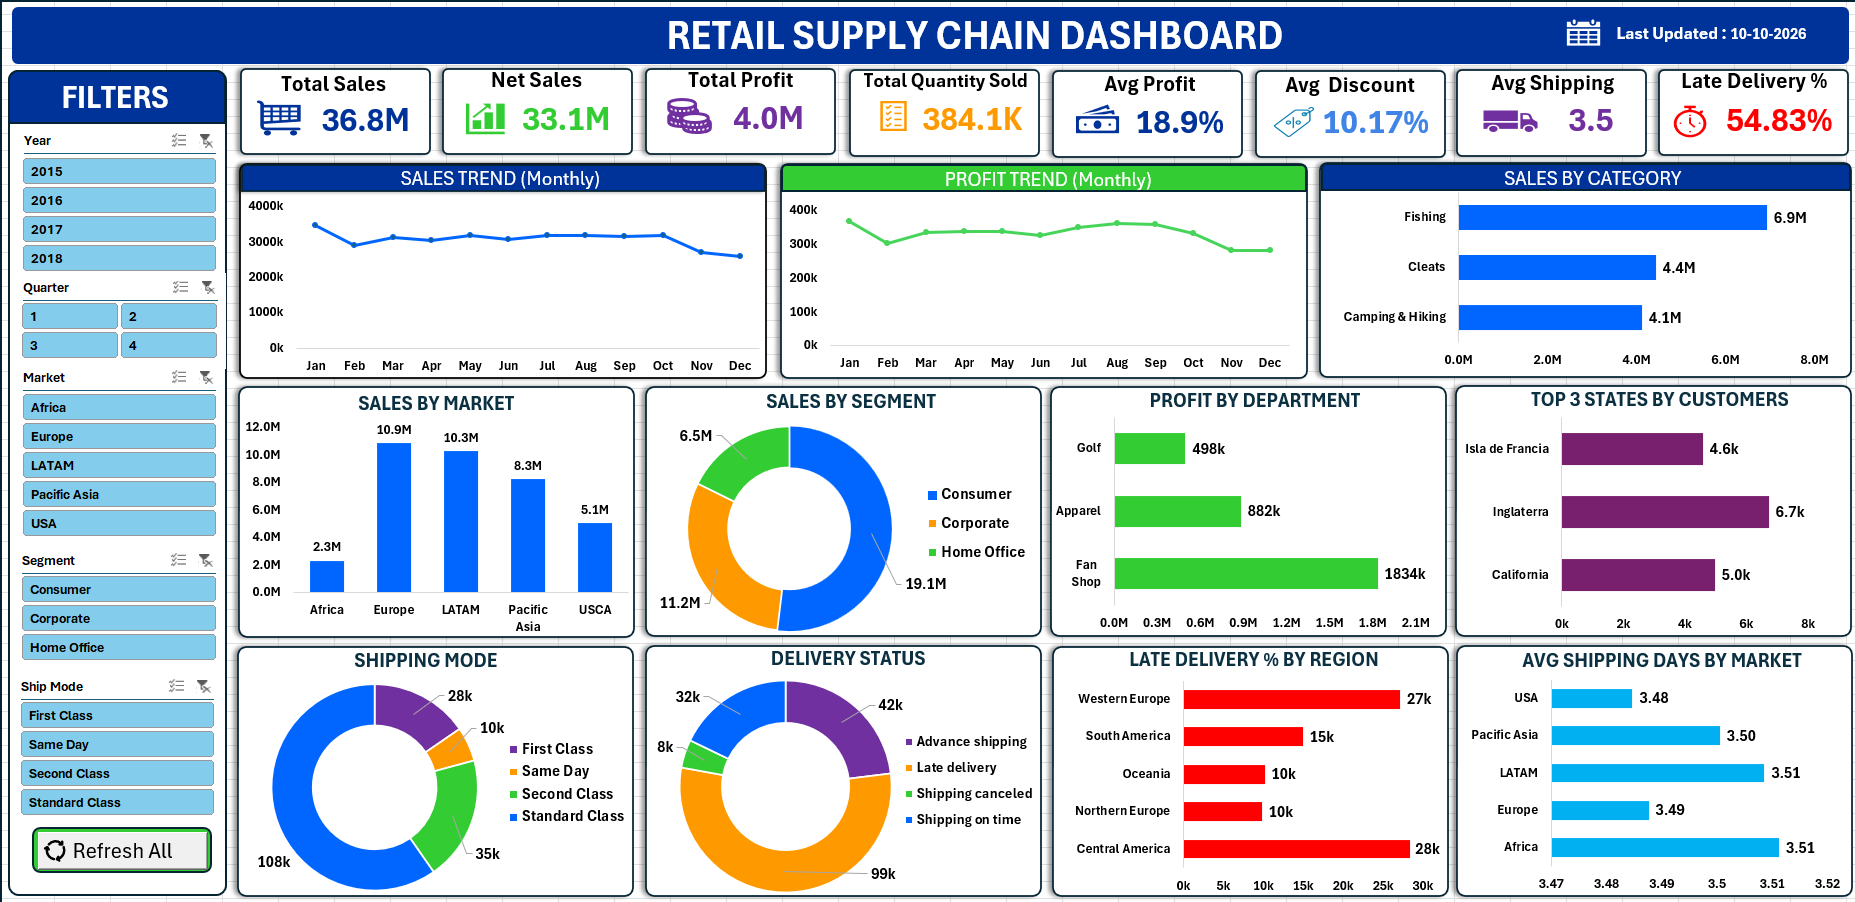

The page's visual inventory and layout, read from the dashboard file:
{"tool":"powerbi","page":{"name":"Page 1","canvas":[2800,1500],"ordinal":0},"visuals":[{"type":"cardVisual","fields":{"Data":["Sum(gold fact_order_items.sales)"]},"box":[4.6,356.1,455,140],"z":0},{"type":"cardVisual","fields":{"Data":["Count(gold fact_order_items.order_id)"]},"box":[472.6,356.1,455,140],"z":1000},{"type":"cardVisual","fields":{"Data":["Sum(gold fact_order_items.profit)"]},"box":[940.6,356.1,455,140],"z":2000},{"type":"cardVisual","fields":{"Data":["Avg(gold fact_order_items.profit_margin)"]},"box":[1408.6,356.1,455,140],"z":3000},{"type":"cardVisual","fields":{"Data":["Count(gold fact_order_items.customer_id)"]},"box":[2344.6,356.1,455,140],"z":4000},{"type":"cardVisual","fields":{"Data":["gold fact_order_items.late_delivery_risk_%"]},"box":[1876.6,356.1,455,140],"z":5000},{"type":"columnChart","title":"Sales by Market","fields":{"Y":["Sum(gold fact_order_items.sales)"],"Category":["gold fact_order_items.market"]},"box":[1407.5,506.9,666.4,500],"z":6000},{"type":"donutChart","title":"Sales by Customer Segment","fields":{"Y":["Sum(gold fact_order_items.sales)"],"Category":["gold fact_order_items.segment"]},"box":[1870,1014.4,925,476],"z":7000},{"type":"barChart","title":"Top 3 Departments by Profit","fields":{"Y":["Sum(gold fact_order_items.profit)"],"Category":["gold fact_order_items.department_name"]},"box":[2088.1,506.9,707,500],"z":8000},{"type":"donutChart","title":"Orders by Shipping Mode","fields":{"Y":["Count(gold fact_order_items.order_id)"],"Category":["gold fact_order_items.shipping_mode"]},"box":[3.3,1014.4,924,476],"z":9000},{"type":"slicer","fields":{"Values":["gold dim_date.year_number"]},"box":[0,244.3,545,115],"z":10000},{"type":"slicer","fields":{"Values":["gold dim_date.quarter_number"]},"box":[562.9,244.3,545,115],"z":11000},{"type":"slicer","fields":{"Values":["gold dim_order_locations.market"]},"box":[1688.7,244.3,545,115],"z":12000},{"type":"slicer","fields":{"Values":["gold fact_order_items.shipping_mode"]},"box":[2251.6,244.3,545,115],"z":13000},{"type":"lineStackedColumnComboChart","title":"Sales & Profit Trend","fields":{"Y":["Sum(gold fact_order_items.sales)"],"Category":["gold fact_order_items.calendar_date.Variation.Date Hierarchy.Month"],"Y2":["Sum(gold fact_order_items.profit)"]},"box":[3.3,506.7,1393.4,500],"z":14000},{"type":"slicer","fields":{"Values":["gold fact_order_items.region"]},"box":[1125.8,244.3,545,115],"z":15000},{"type":"tableEx","title":"Category Performance","fields":{"Values":["gold fact_order_items.category_name","Sum(gold fact_order_items.sales)","Sum(gold fact_order_items.profit)","Avg(gold fact_order_items.profit_margin)"]},"box":[937.8,1014.4,920,476],"z":16000},{"type":"textbox","box":[272.6,20.2,783.5,105],"z":17000},{"type":"textbox","box":[280.7,125.2,803.7,56.5],"z":18000},{"type":"image","box":[0,0,273.8,190.6],"z":19000}]}

Visuals, with their boxes on the page's 2800x1500 design canvas (x1, y1, x2, y2). These are canvas units, not pixel positions in the 1855x902 screenshot, which may show the page scaled, cropped or inside an application window:
cardVisual - Sum(gold fact_order_items.sales): bbox=[5, 356, 460, 496]
cardVisual - Count(gold fact_order_items.order_id): bbox=[473, 356, 928, 496]
cardVisual - Sum(gold fact_order_items.profit): bbox=[941, 356, 1396, 496]
cardVisual - Avg(gold fact_order_items.profit_margin): bbox=[1409, 356, 1864, 496]
cardVisual - Count(gold fact_order_items.customer_id): bbox=[2345, 356, 2800, 496]
cardVisual - gold fact_order_items.late_delivery_risk_%: bbox=[1877, 356, 2332, 496]
"Sales by Market" columnChart: bbox=[1408, 507, 2074, 1007]
"Sales by Customer Segment" donutChart: bbox=[1870, 1014, 2795, 1490]
"Top 3 Departments by Profit" barChart: bbox=[2088, 507, 2795, 1007]
"Orders by Shipping Mode" donutChart: bbox=[3, 1014, 927, 1490]
slicer - gold dim_date.year_number: bbox=[0, 244, 545, 359]
slicer - gold dim_date.quarter_number: bbox=[563, 244, 1108, 359]
slicer - gold dim_order_locations.market: bbox=[1689, 244, 2234, 359]
slicer - gold fact_order_items.shipping_mode: bbox=[2252, 244, 2797, 359]
"Sales & Profit Trend" lineStackedColumnComboChart: bbox=[3, 507, 1397, 1007]
slicer - gold fact_order_items.region: bbox=[1126, 244, 1671, 359]
"Category Performance" tableEx: bbox=[938, 1014, 1858, 1490]
textbox: bbox=[273, 20, 1056, 125]
textbox: bbox=[281, 125, 1084, 182]
image: bbox=[0, 0, 274, 191]
